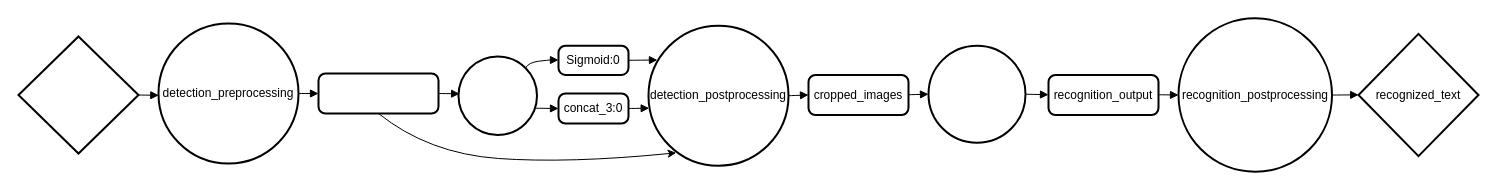
Some shapes in this 1496 by 190 pixel diagram are drawn without their labels. Here are the shapes that lost their labels. From the top down, the box of each, then its label:
(17, 35, 139, 154): input image
(317, 72, 439, 114): preprocessed_image
(457, 55, 538, 136): text_detection
(927, 44, 1026, 143): text_recognition
